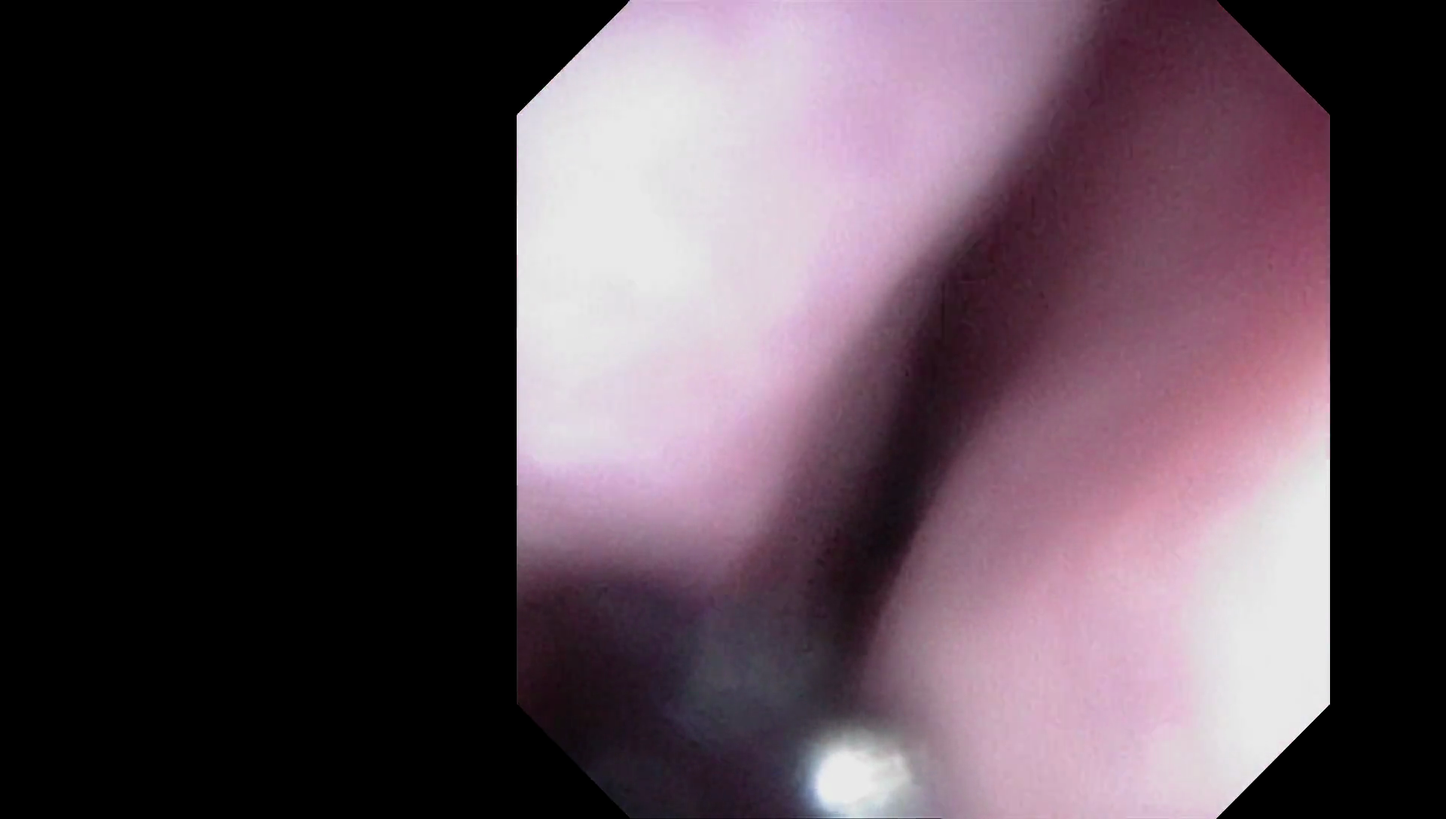close_wall: (996, 372, 1311, 797), (539, 102, 859, 442)
next: (721, 261, 1029, 635), (533, 558, 757, 703)
